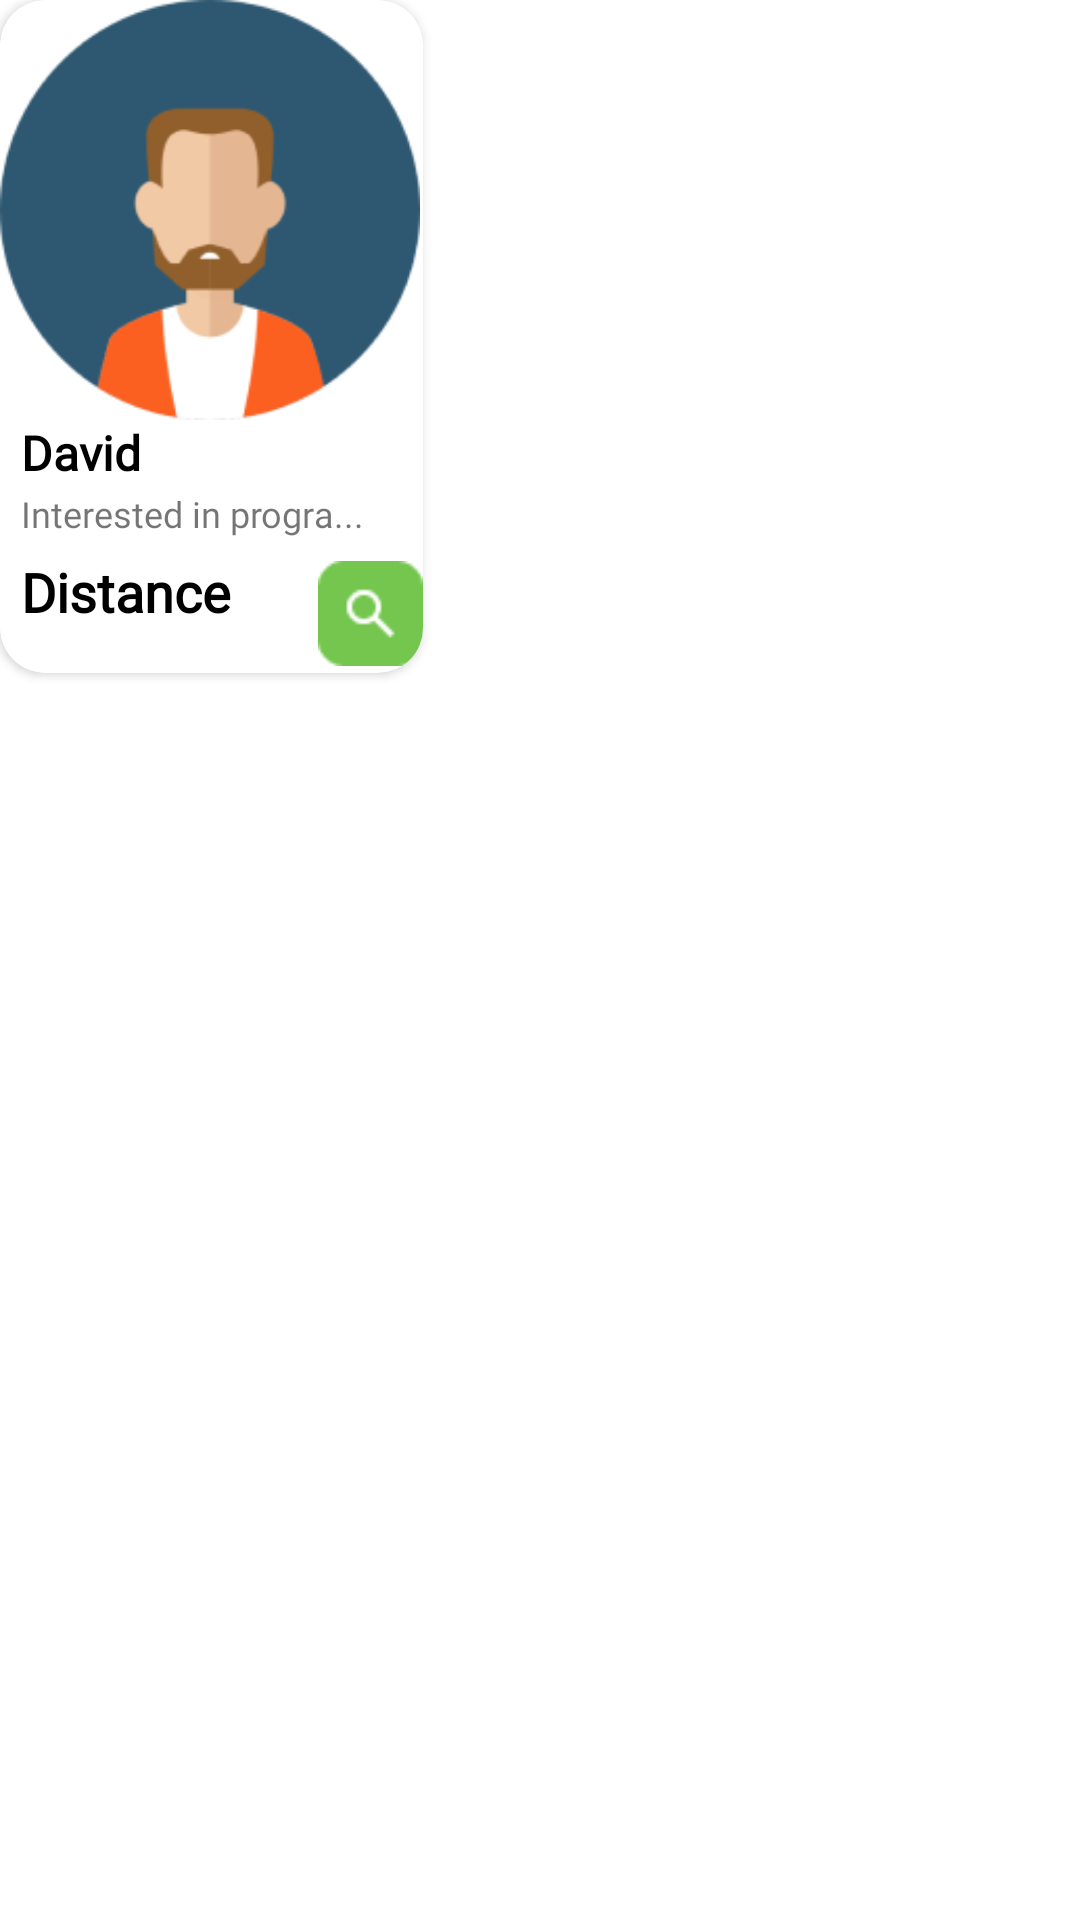

Icon click points for this 1080*1920 phone screenshot, format (x,y):
searchbutton: (370,613)
